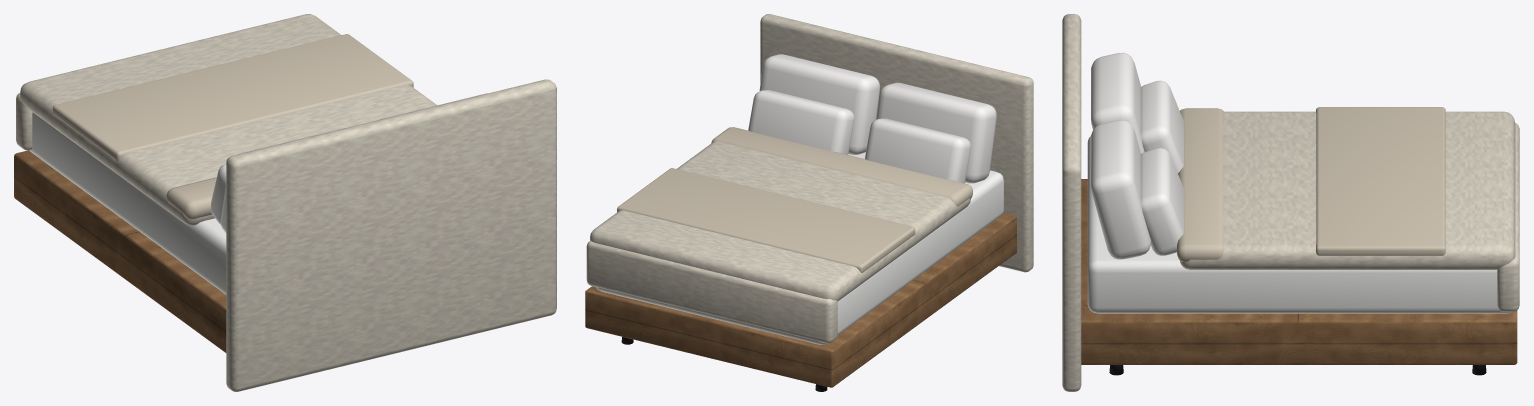
Rendered from bed3_bed.glb.
The picture shows the model from 3 angles, left to right: view 1: azimuth 30°, elevation 25°; view 2: azimuth 150°, elevation 25°; view 3: azimuth 270°, elevation 25°; orthographic projection. The views are drawn at different scales.
Visible parts, largest first — view 1: bed3_bed; view 2: bed3_bed; view 3: bed3_bed.
Boxes of the visible parts, x1,y1,x2,y2 form: bed3_bed: (14,14,556,391); bed3_bed: (585,14,1033,391); bed3_bed: (1062,14,1519,391).
Size of the model in its own units: 1.64 by 1.12 by 2.04.
Materials: 6 (3 with a texture image).
